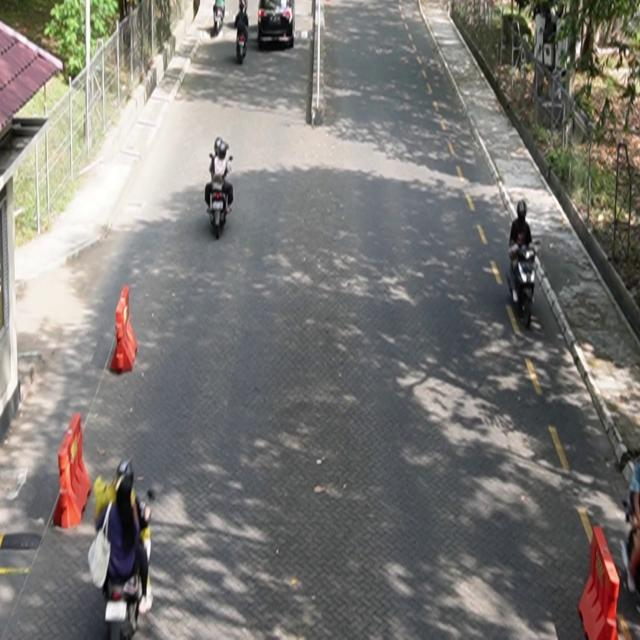car: (258, 1, 296, 50)
